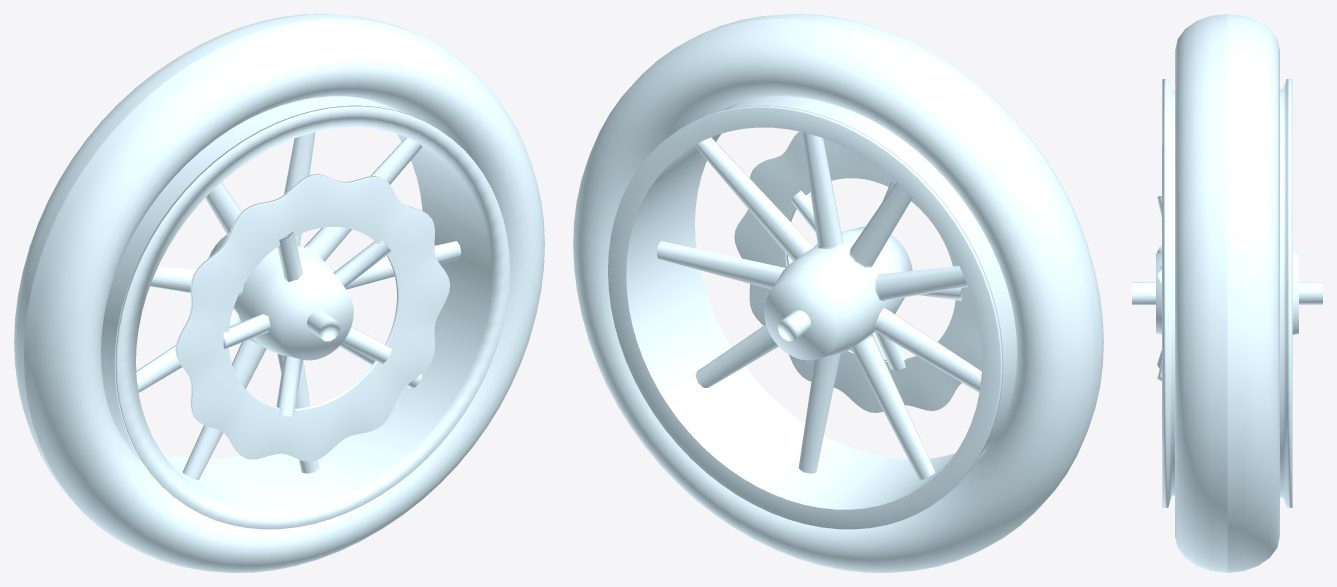
Rendered from ronin-wheel-front.v1.glb.
The picture shows the model from 3 angles, left to right: view 1: azimuth 30°, elevation 25°; view 2: azimuth 150°, elevation 25°; view 3: azimuth 270°, elevation 25°; orthographic projection. The views are drawn at different scales.
Parts seen in each view (by area): view 1: ronin-wheel-front; view 2: ronin-wheel-front; view 3: ronin-wheel-front.
Boxes of the visible parts, <box> form: ronin-wheel-front: <box>14,14,544,572</box>; ronin-wheel-front: <box>573,14,1103,572</box>; ronin-wheel-front: <box>1132,14,1322,572</box>.
Size of the model in its own units: 0.5858 by 0.5858 by 0.2.
